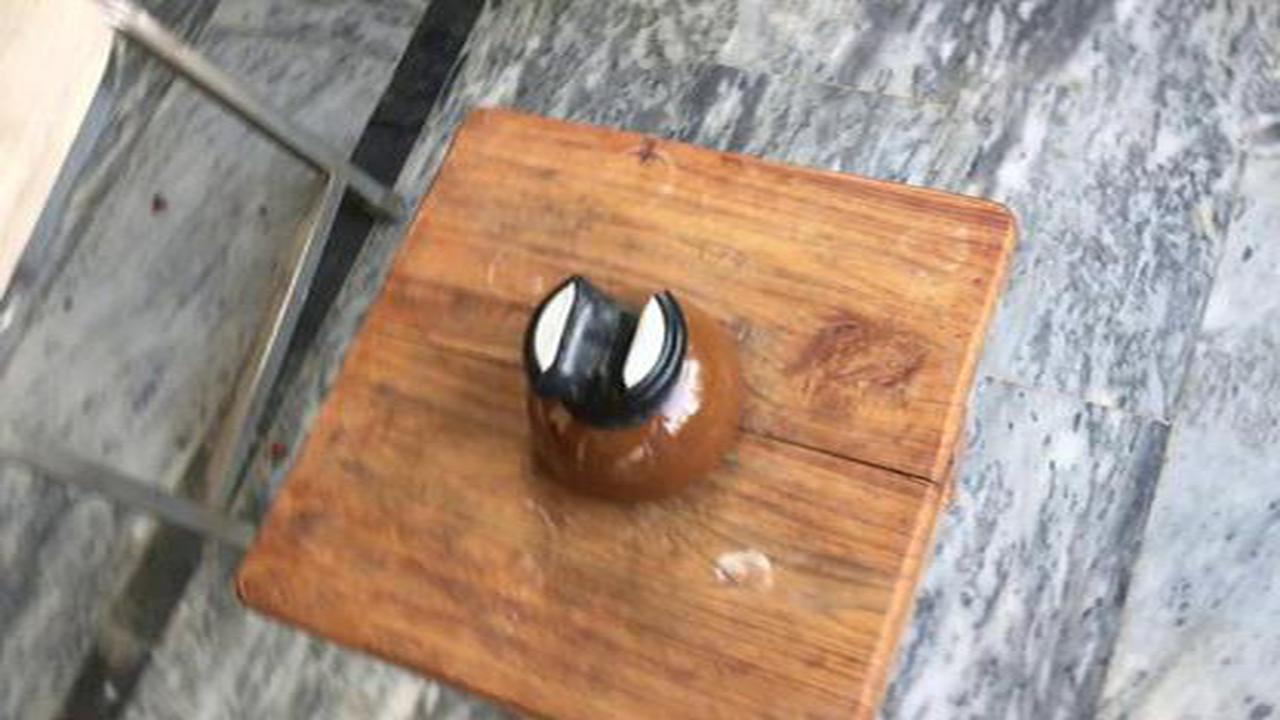insulator_pin: (496, 258, 761, 515)
